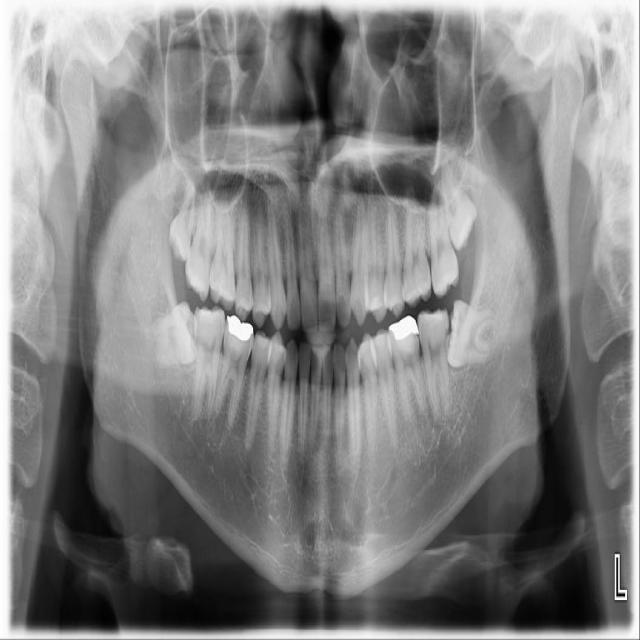3M ESPE Implant: (164, 179, 201, 263)
52: (212, 311, 262, 367), (383, 315, 425, 368), (442, 326, 449, 357)
73: (618, 608, 630, 617)
BioHorizons Implant: (425, 176, 461, 299)
BioLife Implant: (431, 149, 486, 254)
Biomet 3i Implant: (442, 297, 503, 373)
Blue Sky Bio Implant: (417, 308, 451, 421)
Caries: (182, 190, 220, 303)
Implant: (193, 304, 226, 418)
Keystone Dental Implant: (148, 300, 198, 366)
